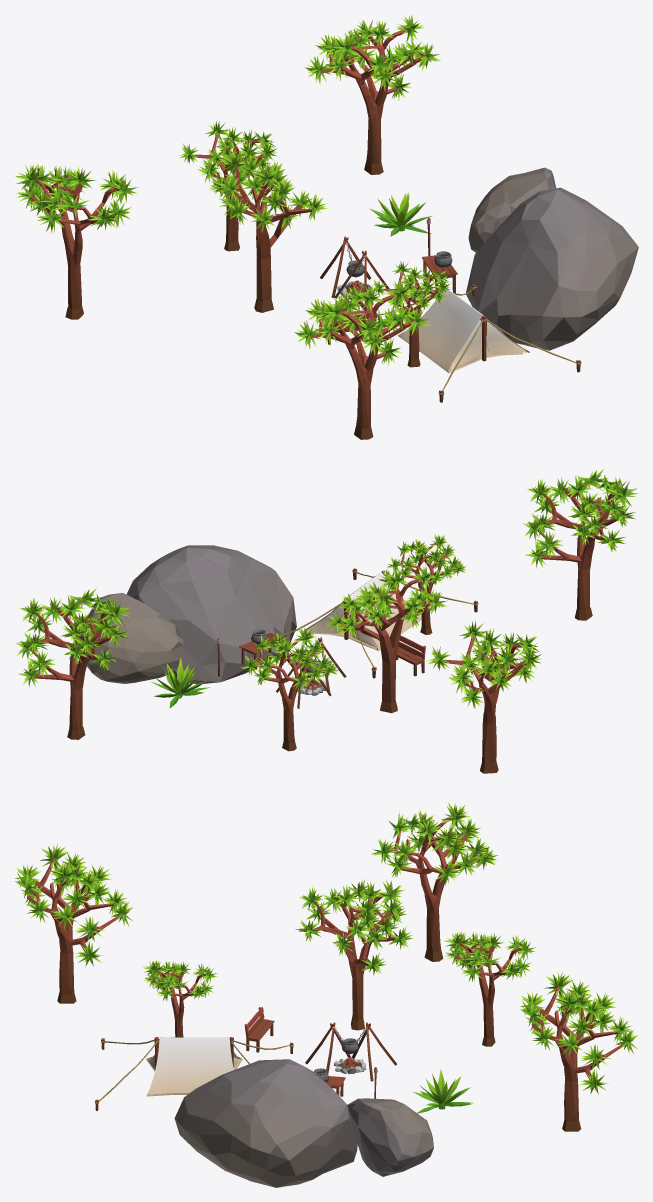
The picture shows the model from 3 angles, top to bottom: view 1: azimuth 30°, elevation 25°; view 2: azimuth 150°, elevation 25°; view 3: azimuth 270°, elevation 25°; orthographic projection. The views are drawn at different scales.
Visible parts, largest first — view 1: RockGrey2_high (4), JoshuaTree3, JoshuaTree3 (1), JoshuaTree2 (4), JoshuaTree1 (1), Tent1, JoshuaTree2 (2), RockGrey2_high (5), JoshuaTree2 (3), CookingFireplace, AgaveLow (1); view 2: RockGrey2_high (4), JoshuaTree3 (1), JoshuaTree3, RockGrey2_high (5), JoshuaTree1 (1), JoshuaTree2 (4), JoshuaTree2 (2), Tent1, JoshuaTree2 (3), AgaveLow (1), CookingFireplace, Bench1; view 3: RockGrey2_high (4), JoshuaTree3 (1), JoshuaTree3, JoshuaTree2 (4), JoshuaTree1 (1), RockGrey2_high (5), Tent1, JoshuaTree2 (2), JoshuaTree2 (3), CookingFireplace, AgaveLow (1), Bench1.
Part boxes in pixels (x1=…): RockGrey2_high (4): x1=466, y1=187, x2=638, y2=350; JoshuaTree3: x1=294, y1=279, x2=430, y2=439; JoshuaTree3 (1): x1=304, y1=15, x2=440, y2=174; JoshuaTree2 (4): x1=15, y1=163, x2=137, y2=319; JoshuaTree1 (1): x1=210, y1=150, x2=327, y2=312; Tent1: x1=378, y1=284, x2=581, y2=402; JoshuaTree2 (2): x1=179, y1=121, x2=277, y2=251; RockGrey2_high (5): x1=468, y1=167, x2=555, y2=252; JoshuaTree2 (3): x1=373, y1=261, x2=450, y2=367; CookingFireplace: x1=320, y1=236, x2=389, y2=313; AgaveLow (1): x1=369, y1=192, x2=432, y2=236; RockGrey2_high (4): x1=126, y1=545, x2=296, y2=684; JoshuaTree3 (1): x1=14, y1=588, x2=130, y2=739; JoshuaTree3: x1=522, y1=469, x2=638, y2=620; RockGrey2_high (5): x1=77, y1=593, x2=183, y2=683; JoshuaTree1 (1): x1=326, y1=566, x2=447, y2=713; JoshuaTree2 (4): x1=427, y1=620, x2=542, y2=773; JoshuaTree2 (2): x1=240, y1=626, x2=338, y2=751; Tent1: x1=279, y1=568, x2=478, y2=678; JoshuaTree2 (3): x1=386, y1=534, x2=466, y2=634; AgaveLow (1): x1=150, y1=657, x2=209, y2=708; CookingFireplace: x1=276, y1=637, x2=346, y2=708; Bench1: x1=396, y1=635, x2=425, y2=676; RockGrey2_high (4): x1=174, y1=1059, x2=357, y2=1187; JoshuaTree3 (1): x1=520, y1=972, x2=637, y2=1131; JoshuaTree3: x1=14, y1=844, x2=133, y2=1003; JoshuaTree2 (4): x1=371, y1=802, x2=498, y2=961; JoshuaTree1 (1): x1=295, y1=879, x2=412, y2=1030; RockGrey2_high (5): x1=347, y1=1098, x2=433, y2=1176; Tent1: x1=95, y1=1037, x2=293, y2=1110; JoshuaTree2 (2): x1=444, y1=931, x2=535, y2=1046; JoshuaTree2 (3): x1=143, y1=960, x2=217, y2=1037; CookingFireplace: x1=305, y1=1022, x2=396, y2=1081; AgaveLow (1): x1=413, y1=1069, x2=472, y2=1113; Bench1: x1=244, y1=1007, x2=274, y2=1052.
Bounding box in the file's own units: 22.34 × 7.96 × 24.64.
Materials: 1 (1 with a texture image).
